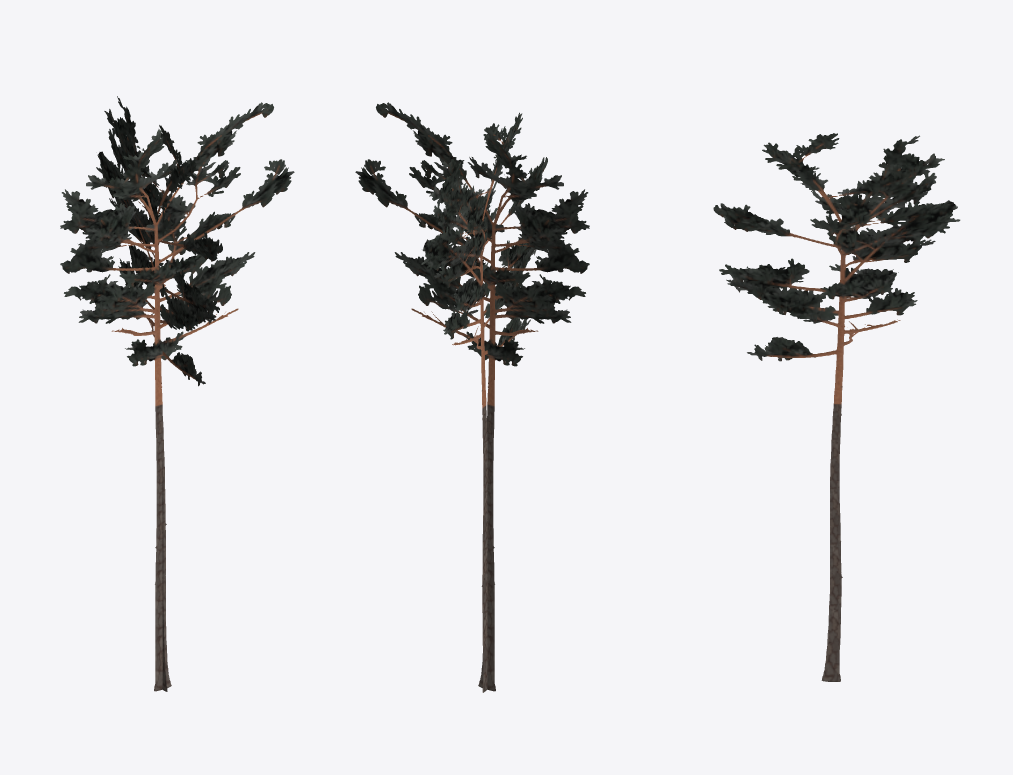
The model's file is pine_a_LOD2_billboard.glb.
3 views of the same model, side by side, from view 1: azimuth 30°, elevation 25°; view 2: azimuth 150°, elevation 25°; view 3: azimuth 270°, elevation 25° (orthographic). The views are drawn at different scales.
Visible parts, largest first — view 1: Pine_A_LOD2_Billboard; view 2: Pine_A_LOD2_Billboard; view 3: Pine_A_LOD2_Billboard.
Boxes of the visible parts, x1,y1,x2,y2 form: Pine_A_LOD2_Billboard: (60, 96, 294, 691); Pine_A_LOD2_Billboard: (355, 102, 589, 692); Pine_A_LOD2_Billboard: (713, 133, 960, 681).
Size of the model in its own units: 11.47 by 22.95 by 11.47.
1 material, 1 textured.
